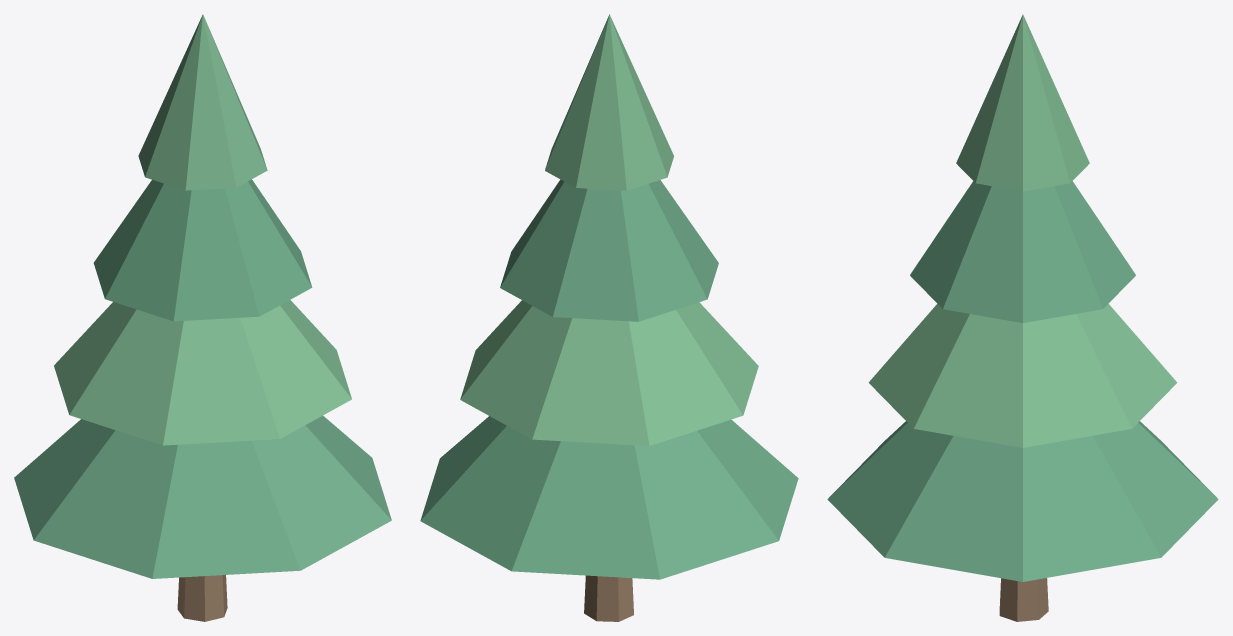
Rendered from sb_tree_pine.glb.
3 views of the same model, side by side, from view 1: azimuth 30°, elevation 25°; view 2: azimuth 150°, elevation 25°; view 3: azimuth 270°, elevation 25° (orthographic).
Visible parts, largest first — view 1: sb_tree_pine; view 2: sb_tree_pine; view 3: sb_tree_pine.
Part boxes in pixels (box(x1,y1,x2,y2)): sb_tree_pine: box(14, 14, 391, 621); sb_tree_pine: box(420, 14, 798, 621); sb_tree_pine: box(827, 14, 1218, 621).
Bounding box in the file's own units: 3.8 × 6.4 × 3.8.
